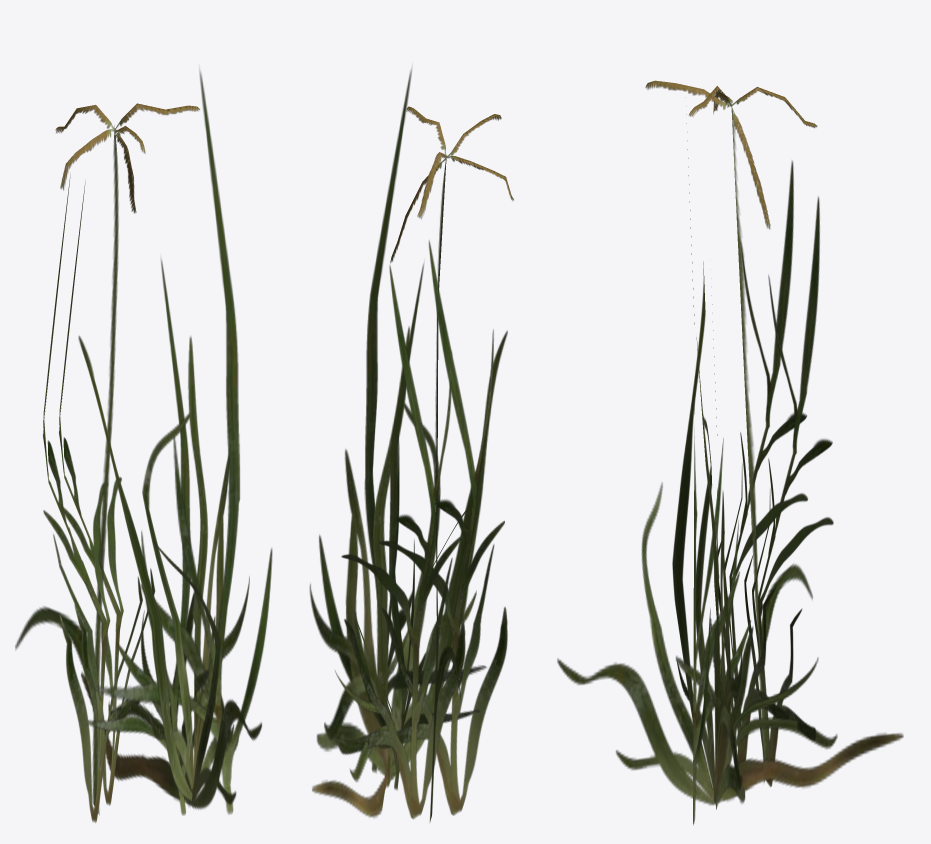
The model's file is grass_clump_e.glb.
The picture shows the model from 3 angles, left to right: view 1: azimuth 30°, elevation 25°; view 2: azimuth 150°, elevation 25°; view 3: azimuth 270°, elevation 25°; orthographic projection. The views are drawn at different scales.
Parts seen in each view (by area): view 1: grass_bermuda_01_medium_c.001, grass_bermuda_01_medium_d.003, grass_bermuda_01_medium_a.003, grass_bermuda_01_seedling_c.001, grass_bermuda_01_medium_a.002, grass_bermuda_01_medium_d.002; view 2: grass_bermuda_01_medium_c.001, grass_bermuda_01_medium_a.003, grass_bermuda_01_medium_a.002, grass_bermuda_01_medium_d.003, grass_bermuda_01_medium_d.002, grass_bermuda_01_seedling_c.001; view 3: grass_bermuda_01_medium_c.001, grass_bermuda_01_medium_a.002, grass_bermuda_01_medium_a.003, grass_bermuda_01_seedling_c.001, grass_bermuda_01_medium_d.003, grass_bermuda_01_medium_d.002.
Boxes of the visible parts, x1,y1,x2,y2 form: grass_bermuda_01_medium_c.001: [78, 336, 261, 809]; grass_bermuda_01_medium_d.003: [94, 70, 272, 814]; grass_bermuda_01_medium_a.003: [43, 174, 142, 822]; grass_bermuda_01_seedling_c.001: [15, 103, 199, 815]; grass_bermuda_01_medium_a.002: [59, 181, 155, 805]; grass_bermuda_01_medium_d.002: [85, 259, 215, 815]; grass_bermuda_01_medium_c.001: [309, 326, 507, 817]; grass_bermuda_01_medium_a.003: [375, 240, 507, 815]; grass_bermuda_01_medium_a.002: [337, 265, 465, 819]; grass_bermuda_01_medium_d.003: [319, 69, 486, 773]; grass_bermuda_01_medium_d.002: [354, 263, 479, 790]; grass_bermuda_01_seedling_c.001: [390, 106, 513, 822]; grass_bermuda_01_medium_c.001: [557, 262, 903, 805]; grass_bermuda_01_medium_a.002: [744, 196, 833, 787]; grass_bermuda_01_medium_a.003: [718, 160, 807, 764]; grass_bermuda_01_seedling_c.001: [645, 80, 817, 782]; grass_bermuda_01_medium_d.003: [686, 114, 739, 824]; grass_bermuda_01_medium_d.002: [711, 278, 750, 809].
Size of the model in its own units: 1.04 by 3.71 by 1.56.
Materials: 1 (1 with a texture image).
